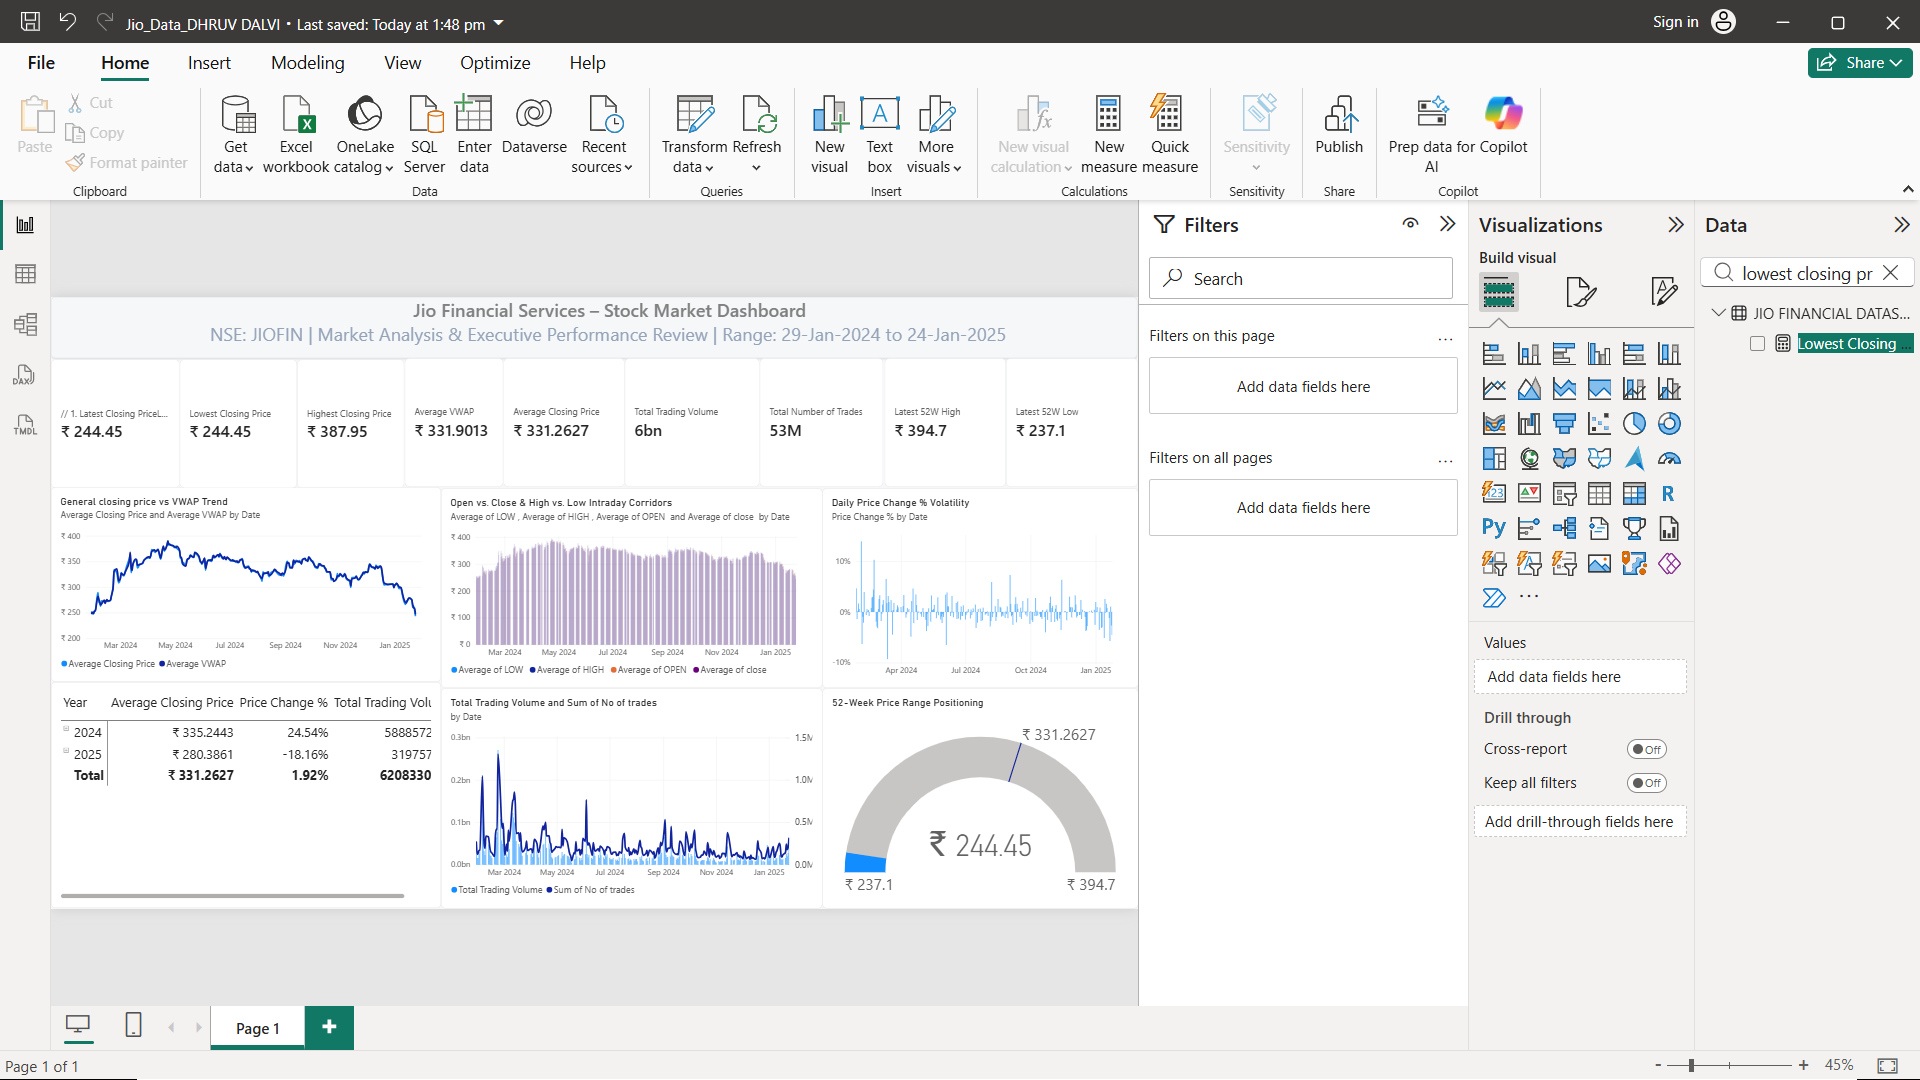

This screenshot's page, from the dashboard's own definition file:
{"tool":"powerbi","page":{"name":"Page 1","canvas":[1920,1080],"ordinal":0},"visuals":[{"type":"textbox","box":[0,0,1918.2,108.2],"z":1000},{"type":"cardVisual","fields":{"Data":["JIO FINANCIAL DATASET.Highest Closing Price"]},"box":[434.9,110.4,189.8,227.4],"z":2000},{"type":"cardVisual","fields":{"Data":["JIO FINANCIAL DATASET.Average VWAP"]},"box":[624.7,108.2,174.4,227.4],"z":3000},{"type":"cardVisual","fields":{"Data":["JIO FINANCIAL DATASET.Average Closing Price"]},"box":[799.1,108.2,214.1,227.4],"z":4000},{"type":"cardVisual","fields":{"Data":["JIO FINANCIAL DATASET.Total Trading Volume"]},"box":[1013.2,108.2,238.4,227.4],"z":5000},{"type":"cardVisual","fields":{"Data":["JIO FINANCIAL DATASET.Total Number of Trades"]},"box":[1251.6,108.2,218.5,227.4],"z":6000},{"type":"cardVisual","fields":{"Data":["JIO FINANCIAL DATASET.Latest 52W High"]},"box":[1472.3,108.2,214.1,227.4],"z":7000},{"type":"cardVisual","fields":{"Data":["JIO FINANCIAL DATASET.Latest 52W Low"]},"box":[1686.5,108.2,234,227.4],"z":8000},{"type":"cardVisual","fields":{"Data":["JIO FINANCIAL DATASET.// 1. Latest Closing PriceLatest Closing Price"]},"box":[0,110.4,227.4,227.4],"z":9000},{"type":"lineChart","title":"General closing price vs VWAP Trend","fields":{"Category":["JIO FINANCIAL DATASET.Date "],"Y":["JIO FINANCIAL DATASET.Average Closing Price","JIO FINANCIAL DATASET.Average VWAP"]},"box":[0,335.5,688.7,344.4],"z":10000},{"type":"clusteredColumnChart","title":"Open vs. Close & High vs. Low Intraday Corridors","fields":{"Category":["JIO FINANCIAL DATASET.Date "],"Y":["Avg(JIO FINANCIAL DATASET.LOW )","Avg(JIO FINANCIAL DATASET.HIGH )","Avg(JIO FINANCIAL DATASET.OPEN )","Avg(JIO FINANCIAL DATASET.close )"]},"box":[688.7,337.7,673.3,353.2],"z":11000},{"type":"clusteredColumnChart","title":"Daily Price Change % Volatility","fields":{"Category":["JIO FINANCIAL DATASET.Date "],"Y":["JIO FINANCIAL DATASET.Price Change %"]},"box":[1362,337.7,558.5,353.2],"z":12000},{"type":"pivotTable","fields":{"Rows":["JIO FINANCIAL DATASET.Year","JIO FINANCIAL DATASET.Quarter","JIO FINANCIAL DATASET.Month"],"Values":["JIO FINANCIAL DATASET.Average Closing Price","JIO FINANCIAL DATASET.Price Change %","JIO FINANCIAL DATASET.Total Trading Volume"]},"box":[0,679.9,688.7,399.5],"z":13000},{"type":"lineClusteredColumnComboChart","fields":{"Category":["JIO FINANCIAL DATASET.Date "],"Y":["JIO FINANCIAL DATASET.Total Trading Volume"],"Y2":["Sum(JIO FINANCIAL DATASET.No of trades )"]},"box":[688.7,690.9,673.3,388.5],"z":14000},{"type":"gauge","title":"52-Week Price Range Positioning","fields":{"MaxValue":["JIO FINANCIAL DATASET.Latest 52W High"],"MinValue":["JIO FINANCIAL DATASET.Latest 52W Low"],"TargetValue":["JIO FINANCIAL DATASET.Average Closing Price"],"Y":["JIO FINANCIAL DATASET.// 1. Latest Closing PriceLatest Closing Price"]},"box":[1362,690.9,558.5,388.5],"z":15000},{"type":"cardVisual","fields":{"Data":["JIO FINANCIAL DATASET.Lowest Closing Price"]},"box":[227.4,110.4,207.5,227.4],"z":16000}]}

Visuals, with their boxes on the page's 1920x1080 design canvas (x1, y1, x2, y2). These are canvas units, not pixel positions in the 1920x1080 screenshot, which may show the page scaled, cropped or inside an application window:
textbox: 0:0:1918:108
cardVisual - JIO FINANCIAL DATASET.Highest Closing Price: 435:110:625:338
cardVisual - JIO FINANCIAL DATASET.Average VWAP: 625:108:799:336
cardVisual - JIO FINANCIAL DATASET.Average Closing Price: 799:108:1013:336
cardVisual - JIO FINANCIAL DATASET.Total Trading Volume: 1013:108:1252:336
cardVisual - JIO FINANCIAL DATASET.Total Number of Trades: 1252:108:1470:336
cardVisual - JIO FINANCIAL DATASET.Latest 52W High: 1472:108:1686:336
cardVisual - JIO FINANCIAL DATASET.Latest 52W Low: 1686:108:1920:336
cardVisual - JIO FINANCIAL DATASET.// 1. Latest Closing PriceLatest Closing Price: 0:110:227:338
"General closing price vs VWAP Trend" lineChart: 0:336:689:680
"Open vs. Close & High vs. Low Intraday Corridors" clusteredColumnChart: 689:338:1362:691
"Daily Price Change % Volatility" clusteredColumnChart: 1362:338:1920:691
pivotTable - JIO FINANCIAL DATASET.Year x JIO FINANCIAL DATASET.Quarter: 0:680:689:1079
lineClusteredColumnComboChart - JIO FINANCIAL DATASET.Date  x JIO FINANCIAL DATASET.Total Trading Volume: 689:691:1362:1079
"52-Week Price Range Positioning" gauge: 1362:691:1920:1079
cardVisual - JIO FINANCIAL DATASET.Lowest Closing Price: 227:110:435:338
